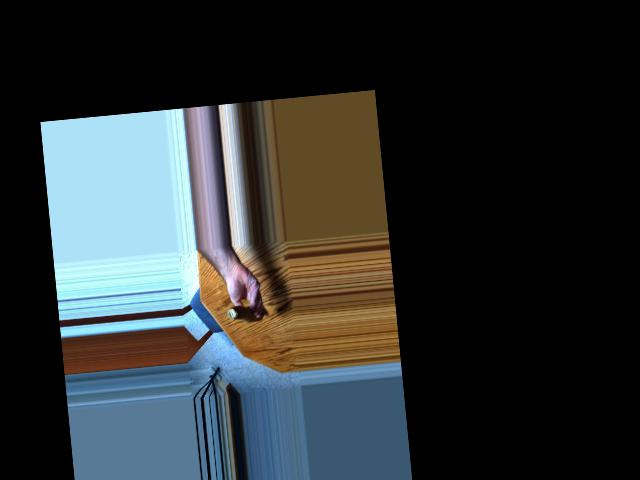sweet_potato: (220, 294, 265, 326)
